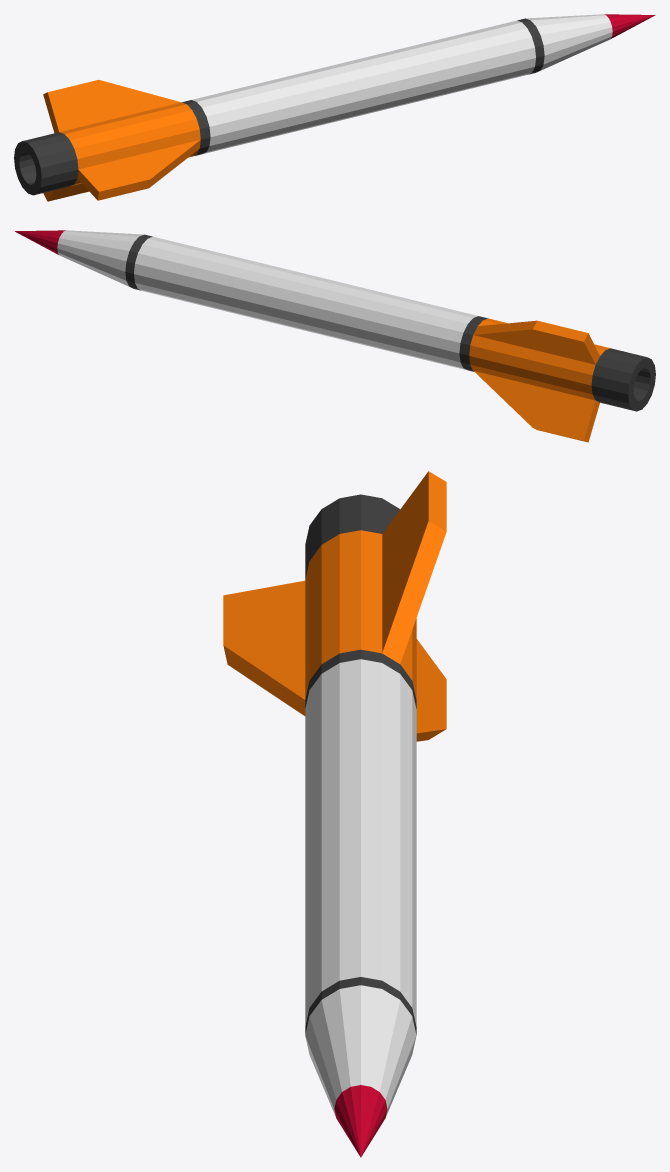
The model's file is missile_orange.glb.
3 renders of one model, top to bottom at view 1: azimuth 30°, elevation 25°; view 2: azimuth 150°, elevation 25°; view 3: azimuth 270°, elevation 25°, orthographic. The views are drawn at different scales.
Parts seen in each view (by area): view 1: Missile_orange; view 2: Missile_orange; view 3: Missile_orange.
Part boxes in pixels (x1,y1,x2,y2): Missile_orange: (14,14,655,201); Missile_orange: (15,230,655,442); Missile_orange: (223,471,446,1157).
Bounding box in the file's own units: 1.67 × 0.2787 × 0.2574.
